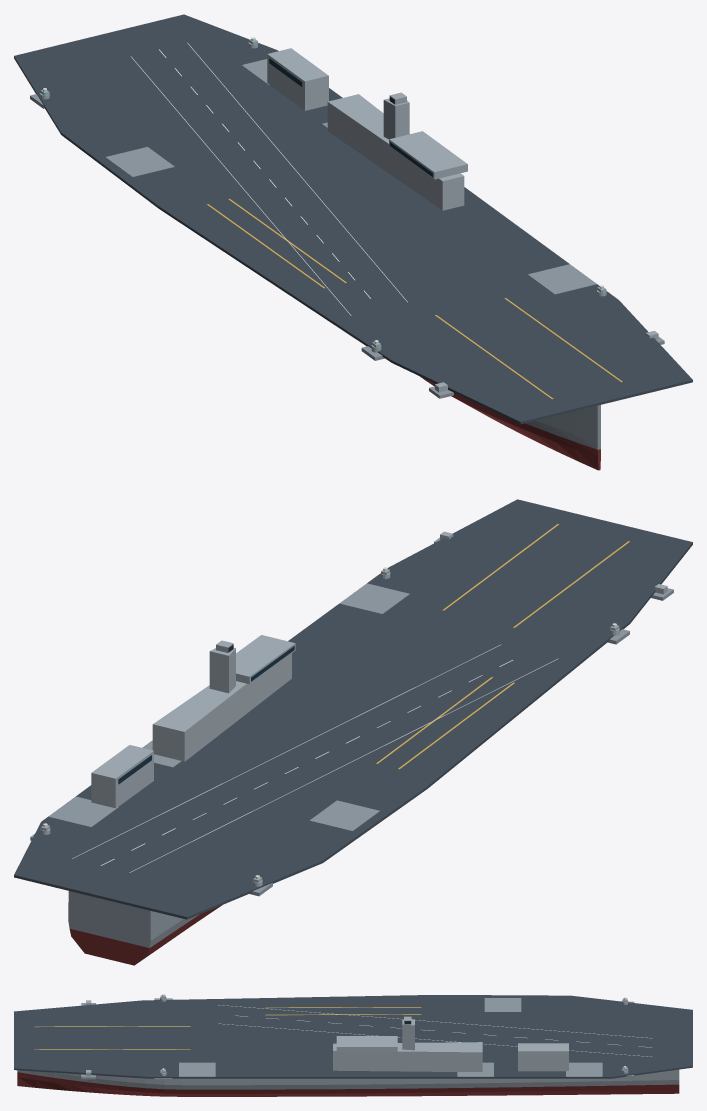
Rendered from ran_cvn_australis_2023.obj.
3 renders of one model, top to bottom at view 1: azimuth 30°, elevation 25°; view 2: azimuth 150°, elevation 25°; view 3: azimuth 270°, elevation 25°, orthographic. The views are drawn at different scales.
Parts seen in each view (by area): view 1: FlightDeck, Island, AviationIsland, UnderwaterHull, Bridge, Hull, Elevator_1, Elevator_4, IntegratedMast; view 2: FlightDeck, Island, Hull, AviationIsland, UnderwaterHull, Bridge, Elevator_4, Elevator_1, Elevator_3, IntegratedMast; view 3: FlightDeck, Hull, UnderwaterHull, Island, AviationIsland, Bridge, Elevator_1, Elevator_4, Elevator_3, IntegratedMast, LandingEdge_-1, Elevator_2 (+2 smaller).
Boxes of the visible parts, box(x1,y1,x2,y2) form: FlightDeck: box(14, 14, 692, 424); Island: box(327, 94, 464, 210); AviationIsland: box(267, 48, 328, 110); UnderwaterHull: box(420, 376, 600, 470); Bridge: box(389, 131, 467, 179); Hull: box(525, 405, 600, 449); Elevator_1: box(527, 264, 596, 294); Elevator_4: box(105, 147, 174, 177); IntegratedMast: box(383, 98, 409, 139); FlightDeck: box(14, 499, 692, 919); Island: box(152, 653, 291, 761); Hull: box(68, 891, 199, 947); AviationIsland: box(91, 745, 153, 808); UnderwaterHull: box(69, 905, 222, 965); Bridge: box(236, 635, 295, 684); Elevator_4: box(309, 800, 379, 831); Elevator_1: box(339, 583, 409, 614); Elevator_3: box(48, 796, 118, 827); IntegratedMast: box(209, 647, 235, 693); FlightDeck: box(14, 995, 692, 1078); Hull: box(17, 1069, 679, 1089); UnderwaterHull: box(17, 1072, 679, 1096); Island: box(333, 1042, 482, 1071); AviationIsland: box(518, 1043, 568, 1071); Bridge: box(336, 1036, 397, 1051); Elevator_1: box(179, 1062, 215, 1076); Elevator_4: box(484, 998, 521, 1011); Elevator_3: box(566, 1062, 602, 1076); IntegratedMast: box(402, 1019, 414, 1050); LandingEdge_-1: box(218, 1005, 651, 1038); Elevator_2: box(457, 1062, 493, 1076).
Bounding box in the file's own units: 107 × 58.2 × 370.
